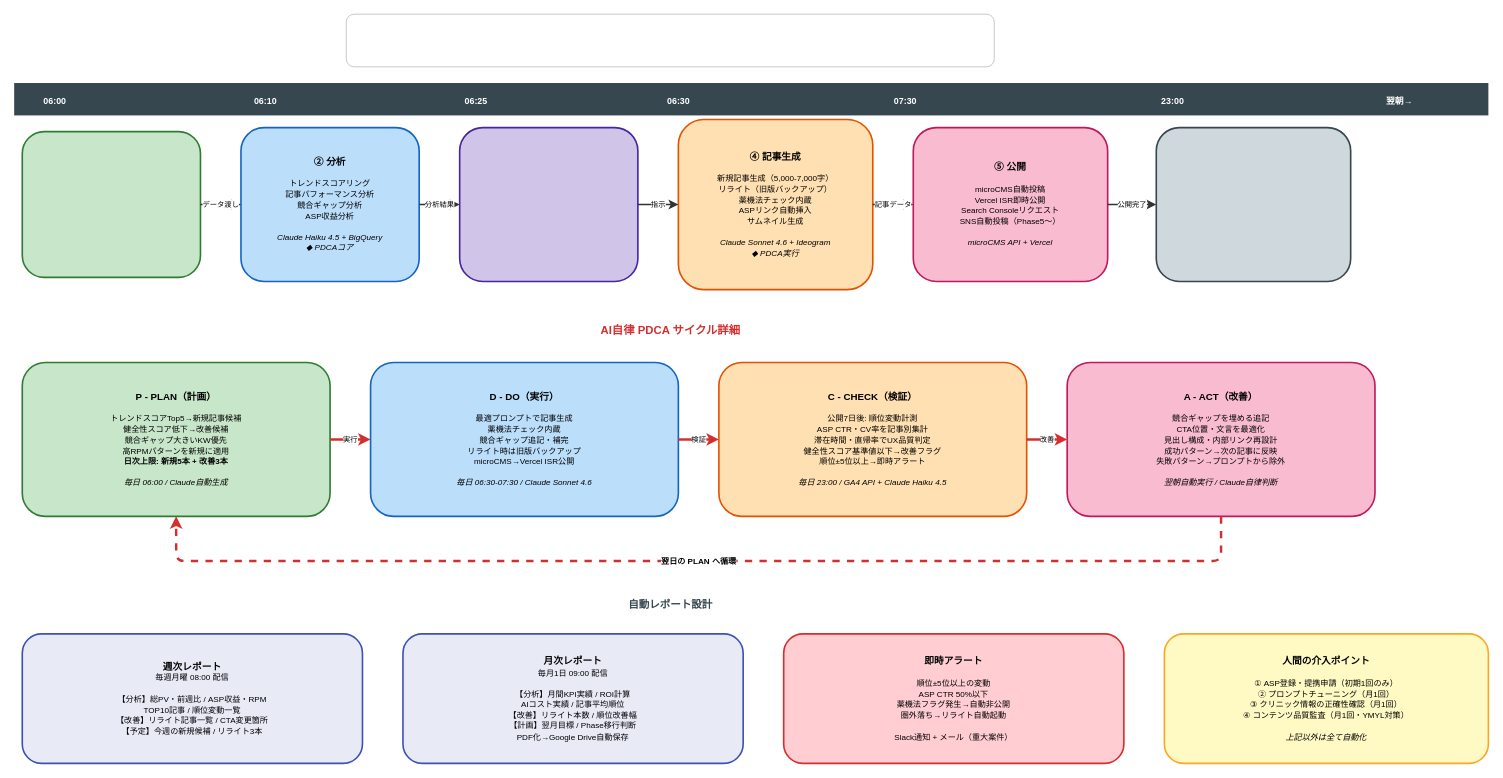
This 1503x778 diagram has some shape labels left out. Each missing label, with the centre of its shape:
AI自律PDCAループ & 日次パイプライン Claudeが分析・判断・実行・検証まで自律的に回す継続改善サイクル: pixel 669 40
① データ取得 Google Trends News RSS GA4 Data API ASP API ◆ PDCA入力: pixel 111 204
③ AI判断 新規記事5本を選定 改善記事3本を選定 優先KW指定 高RPMパターン適用 Claude Sonnet 4.6 ◆ PDCA中核: pixel 548 204
⑥ 計測 GA4日次集計 ASP成果取得 順位トラッキング 健全性スコア算出 GA4 API + Claude Haiku 4.5 ◆ PDCA入力: pixel 1253 204
